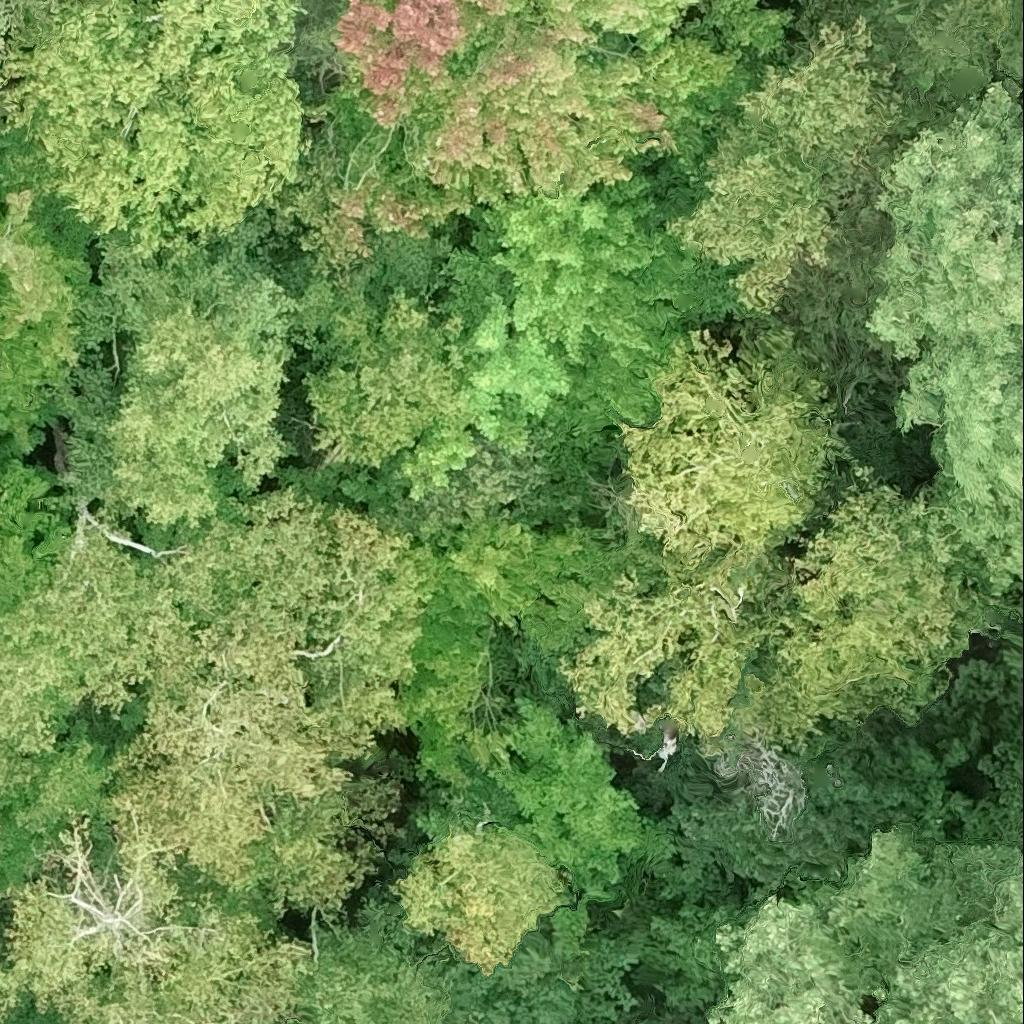crown: (286, 0, 795, 285), (389, 174, 729, 497), (111, 633, 399, 921), (0, 0, 302, 263), (392, 513, 664, 796), (872, 89, 1023, 585), (740, 484, 1014, 749), (668, 22, 900, 316), (0, 820, 314, 1023), (63, 255, 294, 525), (189, 493, 416, 757), (416, 702, 642, 954), (632, 323, 845, 574), (572, 545, 800, 749), (335, 0, 697, 127), (7, 507, 219, 709), (829, 821, 1023, 1023), (283, 279, 468, 472), (363, 900, 636, 1023), (391, 814, 572, 972), (0, 193, 92, 434), (711, 897, 885, 1023), (275, 936, 442, 1023), (0, 619, 86, 758), (712, 743, 808, 830), (0, 731, 26, 803), (0, 961, 21, 1020), (1000, 637, 1023, 688), (0, 0, 11, 27), (0, 842, 1, 857)
